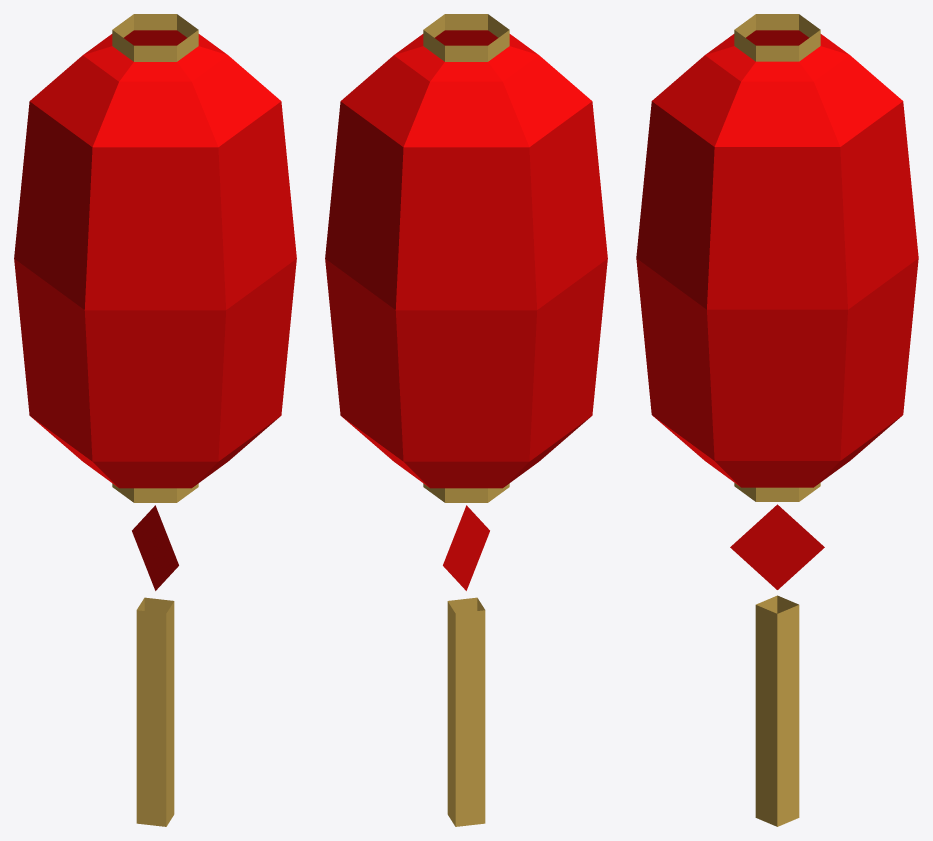
The model's file is long-lantern.fbx.
3 renders of one model, left to right at view 1: azimuth 30°, elevation 25°; view 2: azimuth 150°, elevation 25°; view 3: azimuth 270°, elevation 25°, orthographic.
Parts seen in each view (by area): view 1: LongLantern; view 2: LongLantern; view 3: LongLantern.
Part boxes in pixels (bbox=[...]): LongLantern: bbox=[14, 14, 296, 826]; LongLantern: bbox=[325, 14, 607, 826]; LongLantern: bbox=[636, 14, 918, 826].
Size of the model in its own units: 137 by 486 by 158.
